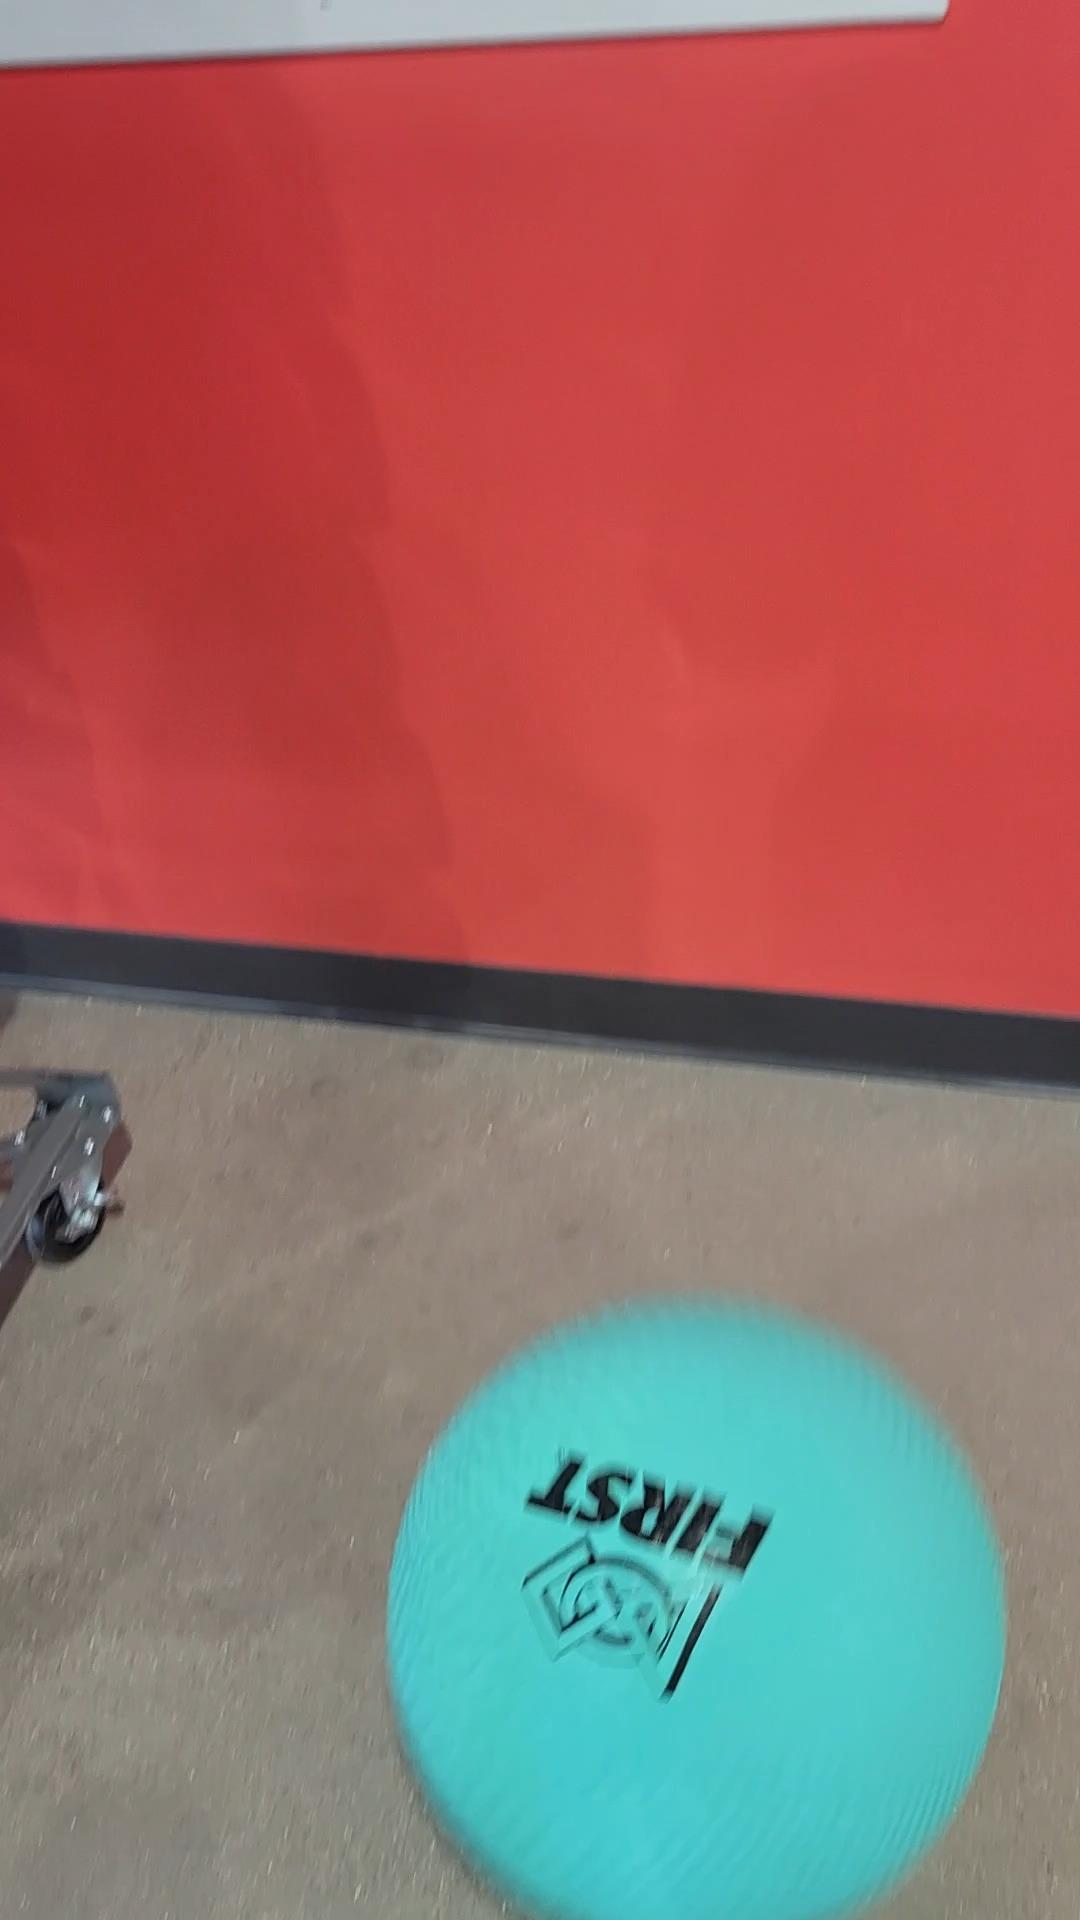algae: (401, 1311, 1006, 1920)
